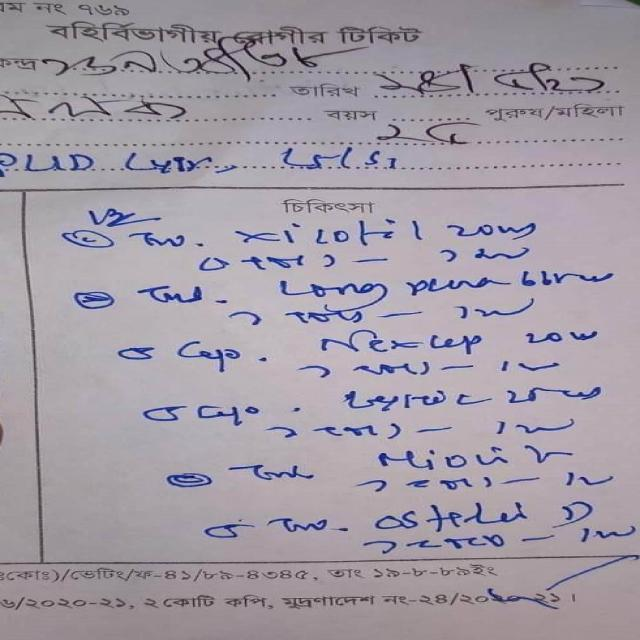Longpara: (264, 273, 512, 300)
Miovit: (367, 441, 569, 474)
Nexcap: (315, 329, 488, 355)
Ostelin D: (358, 500, 601, 535)
